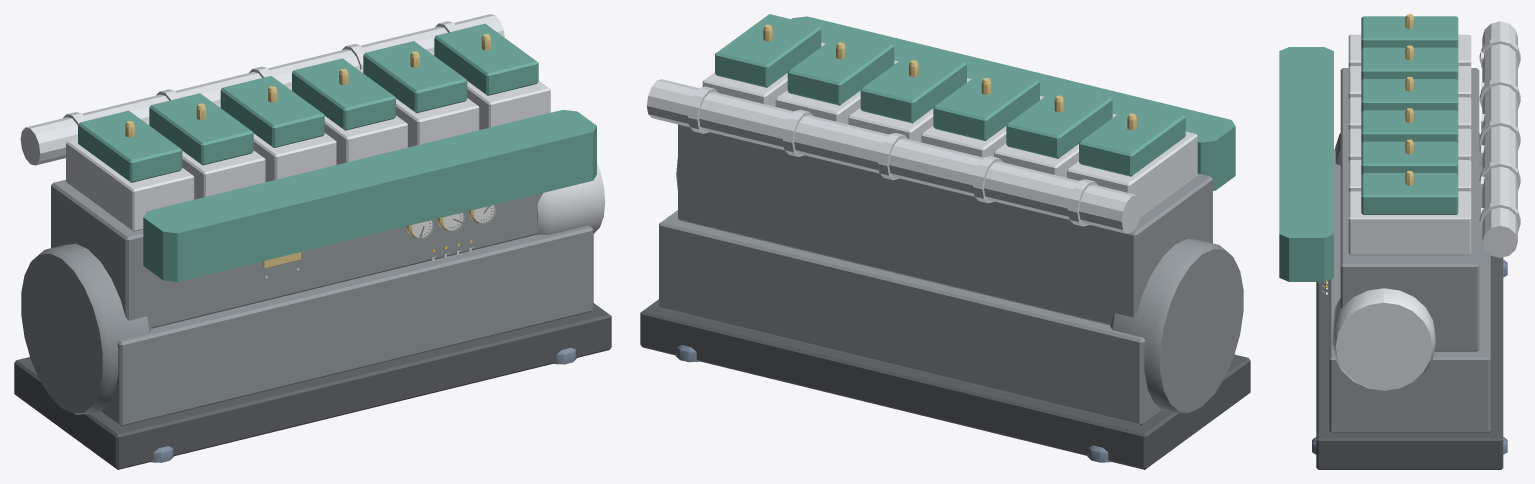
The model's file is submarine-interior-and-control-room-diesel-engine-bloc-267773e3__36515.glb.
3 renders of one model, left to right at view 1: azimuth 30°, elevation 25°; view 2: azimuth 150°, elevation 25°; view 3: azimuth 270°, elevation 25°, orthographic. The views are drawn at different scales.
Parts seen in each view (by area): view 1: diesel-engine-block; view 2: diesel-engine-block; view 3: diesel-engine-block.
Part boxes in pixels (x1,y1,x2,y2): diesel-engine-block: [14, 14, 611, 469]; diesel-engine-block: [640, 14, 1250, 469]; diesel-engine-block: [1279, 14, 1520, 469].
Size of the model in its own units: 3.24 by 1.82 by 1.5.
